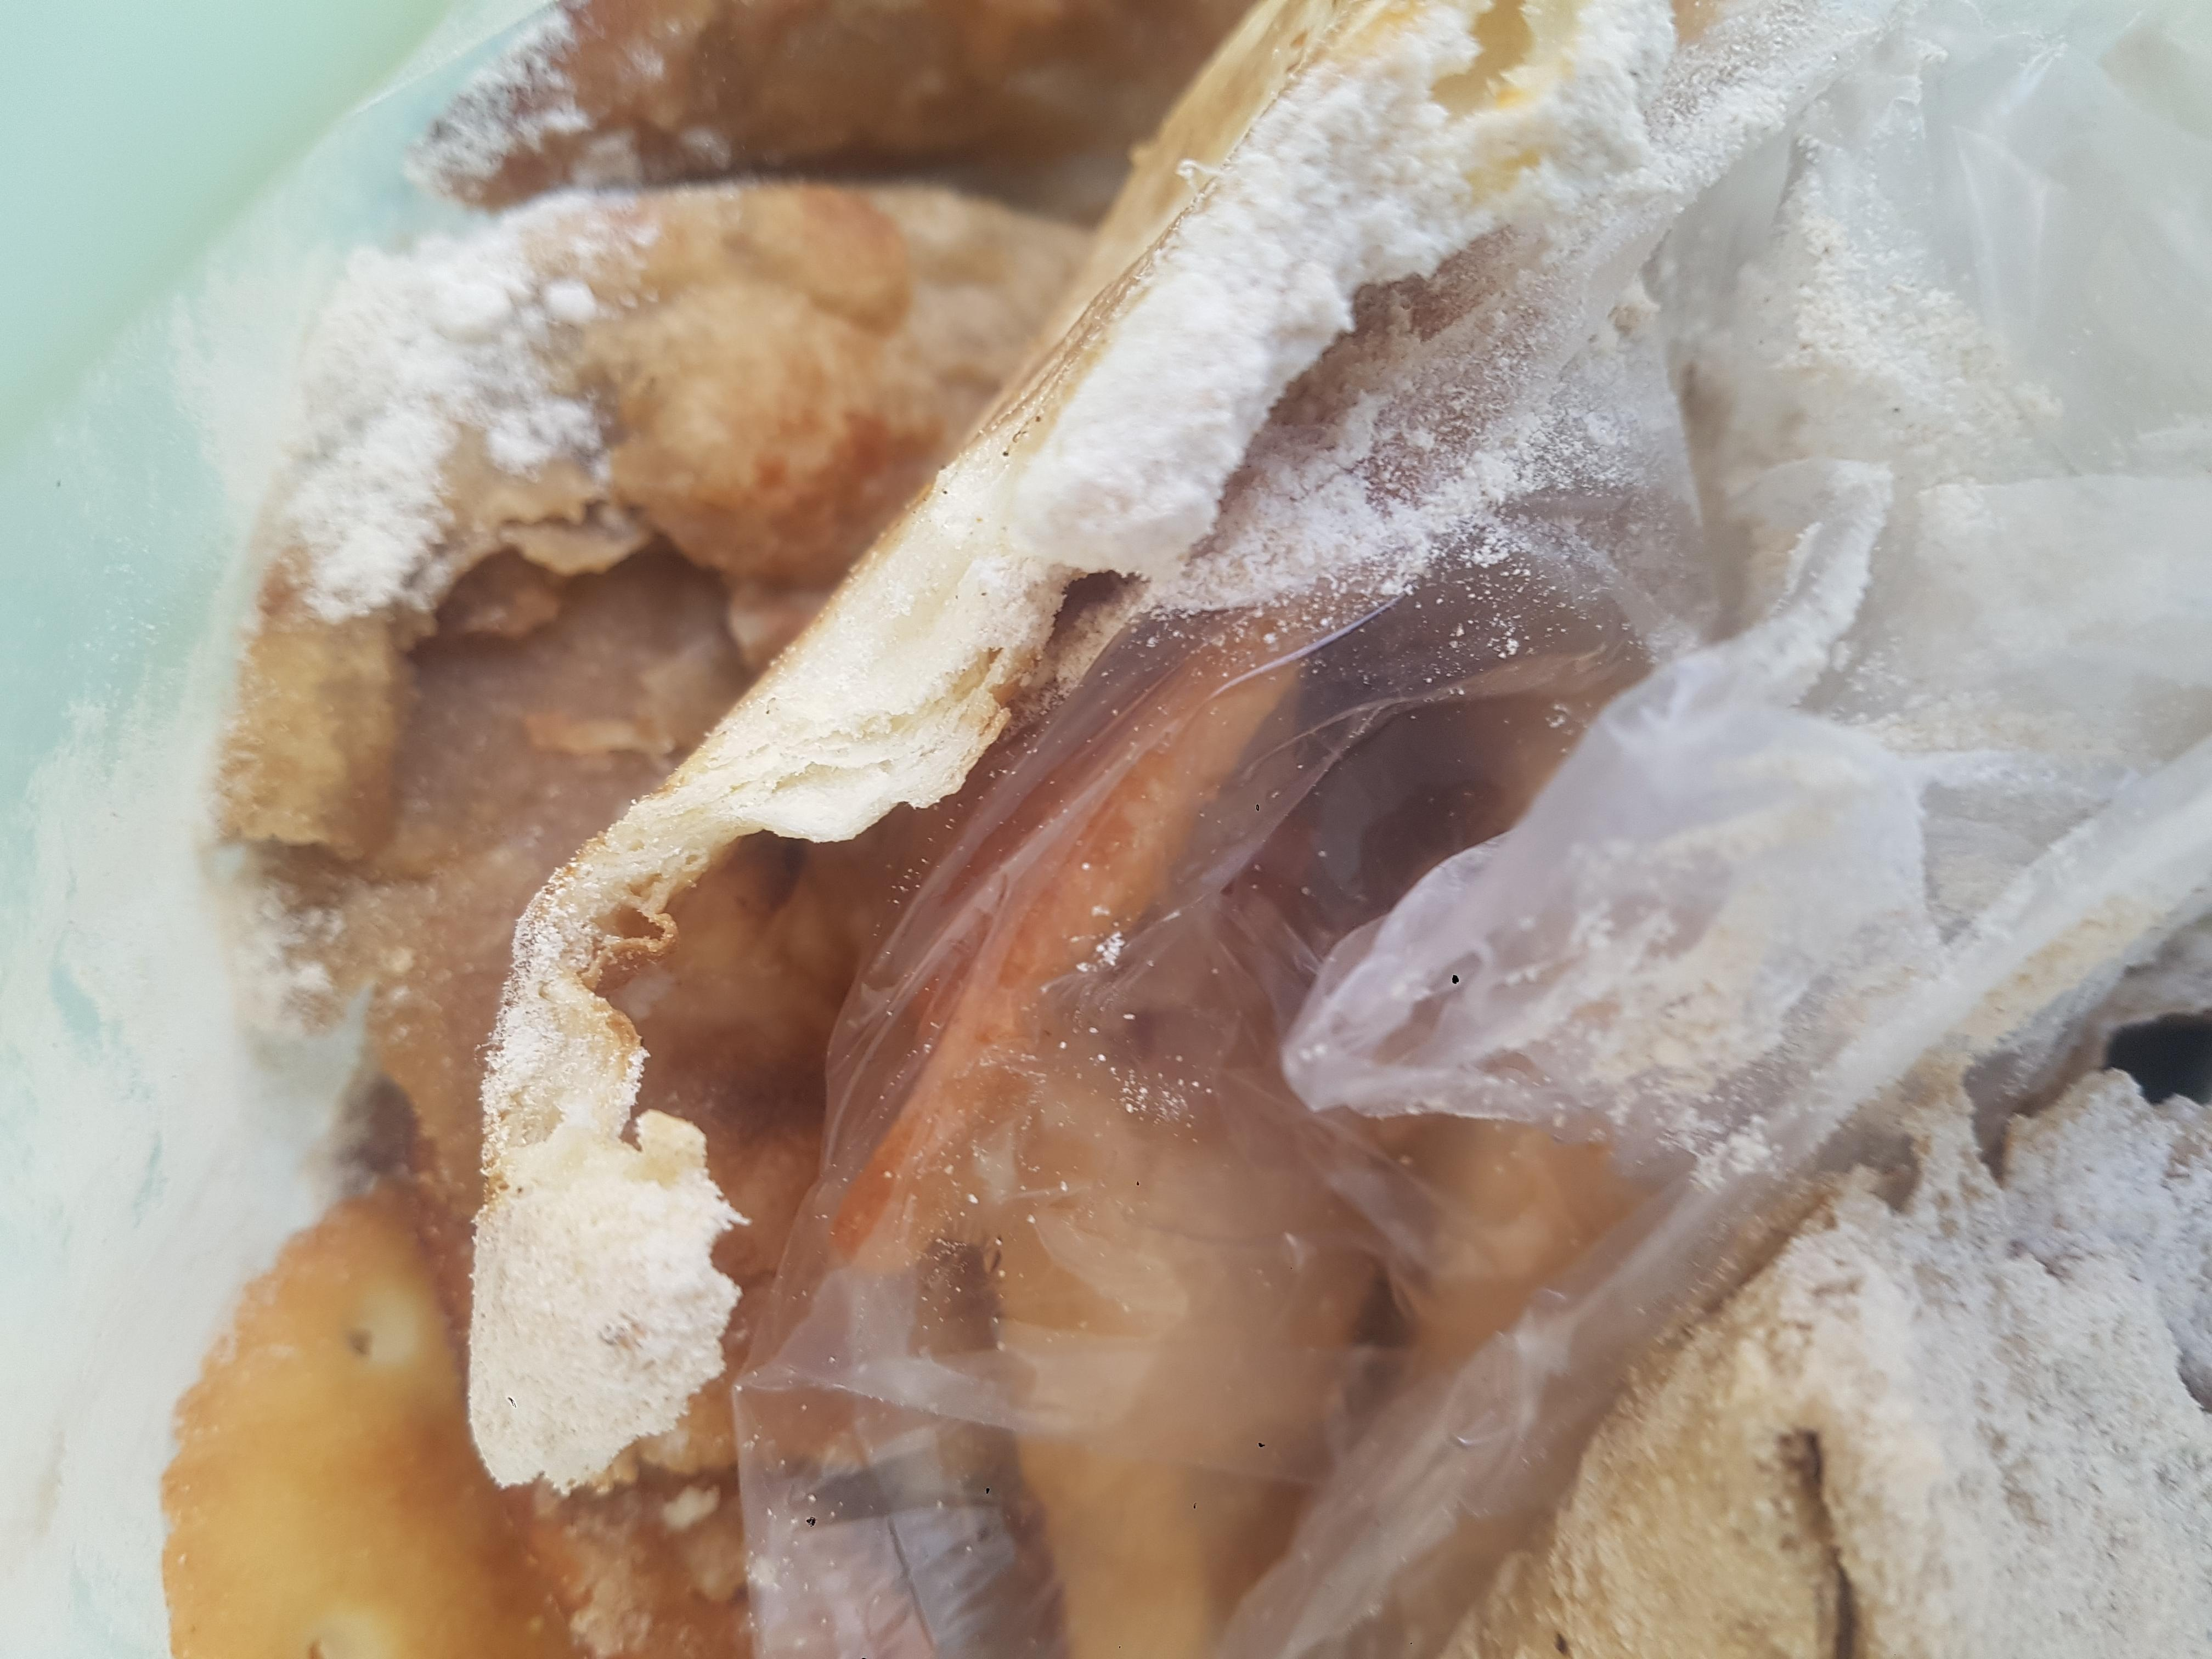organic: (914, 16, 2212, 1607), (197, 37, 1263, 1628)
